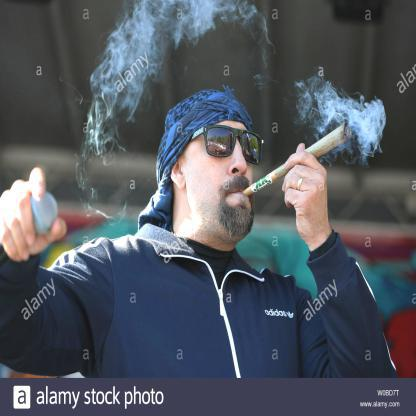person: (27, 93, 392, 375)
smoke: (108, 0, 180, 77), (184, 0, 254, 41), (342, 96, 388, 158), (294, 72, 340, 130), (88, 84, 117, 152)
